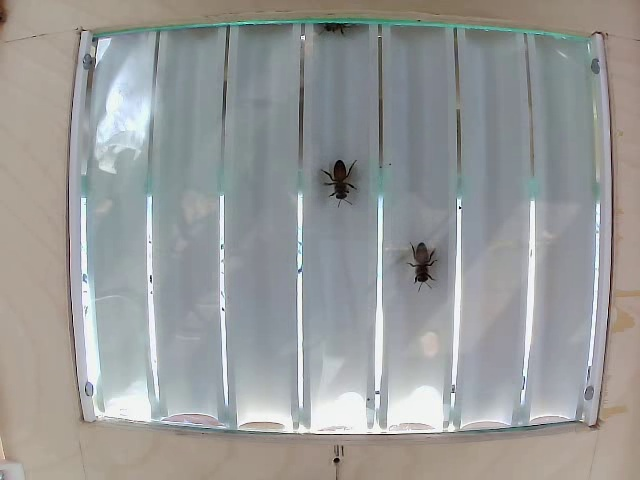bee: (399, 231, 438, 292), (318, 154, 356, 209), (324, 26, 355, 47)
